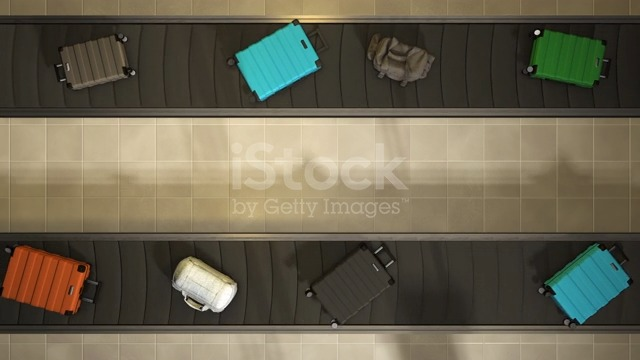Bag: (302, 239, 408, 329), (228, 18, 330, 107), (532, 240, 634, 327), (0, 243, 109, 323), (519, 25, 620, 100), (49, 27, 141, 97), (168, 253, 245, 317), (364, 29, 440, 89)
Handle: (372, 239, 400, 273), (80, 278, 108, 308), (306, 25, 330, 59), (595, 54, 618, 82), (608, 241, 630, 268), (52, 61, 69, 86)
Straps: (182, 292, 209, 311)
